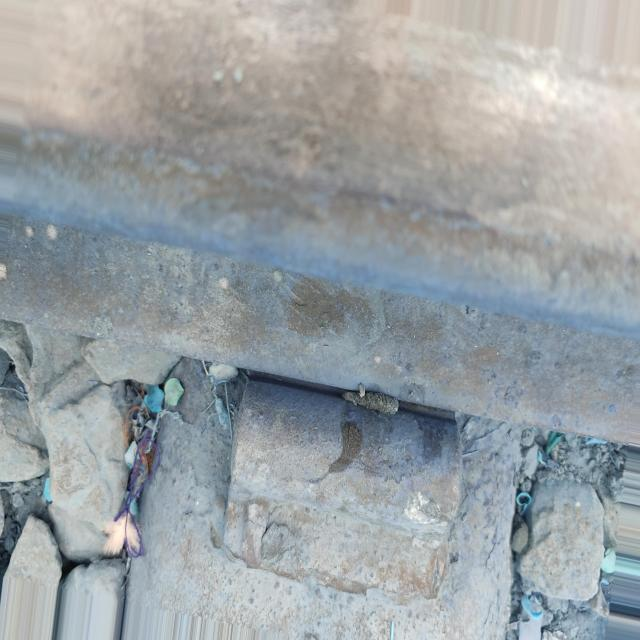Missing Fastener: (211, 371, 514, 639)
